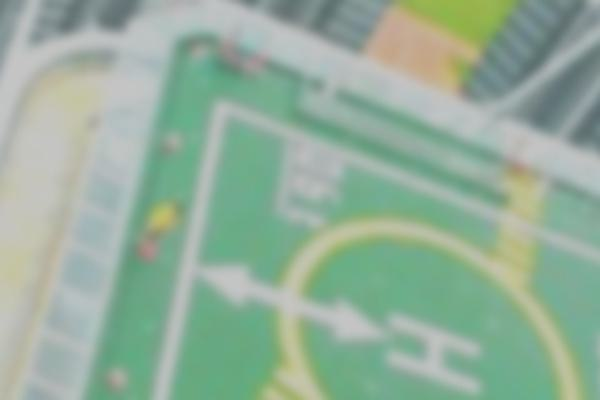Apron: (265, 192, 590, 400)
